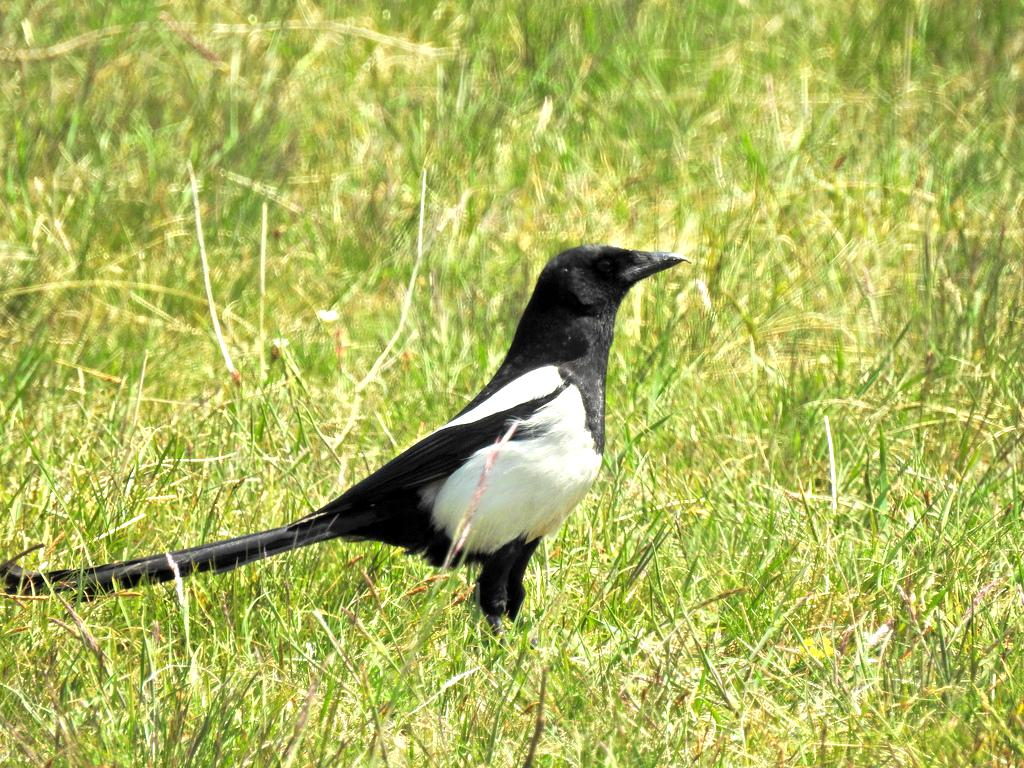PicaPica: (0, 244, 692, 635)
